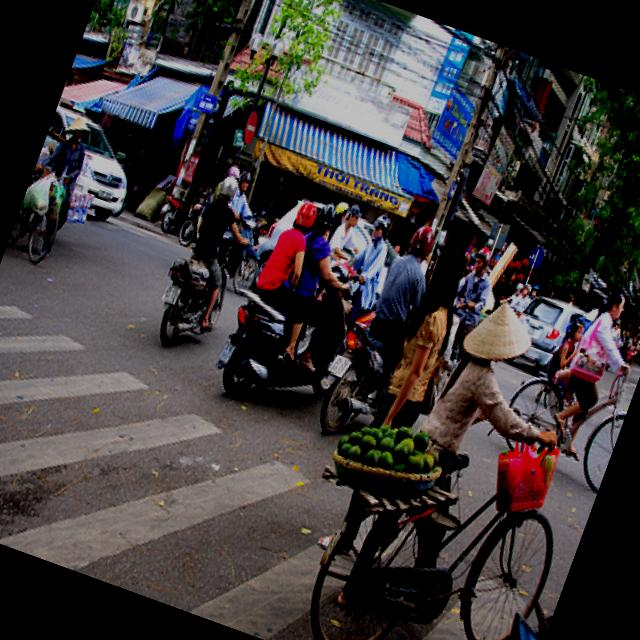Vehicle: (204, 263, 362, 430), (244, 187, 407, 324), (26, 105, 148, 224), (308, 318, 406, 448), (501, 290, 589, 385), (152, 249, 238, 344), (442, 576, 558, 640)
